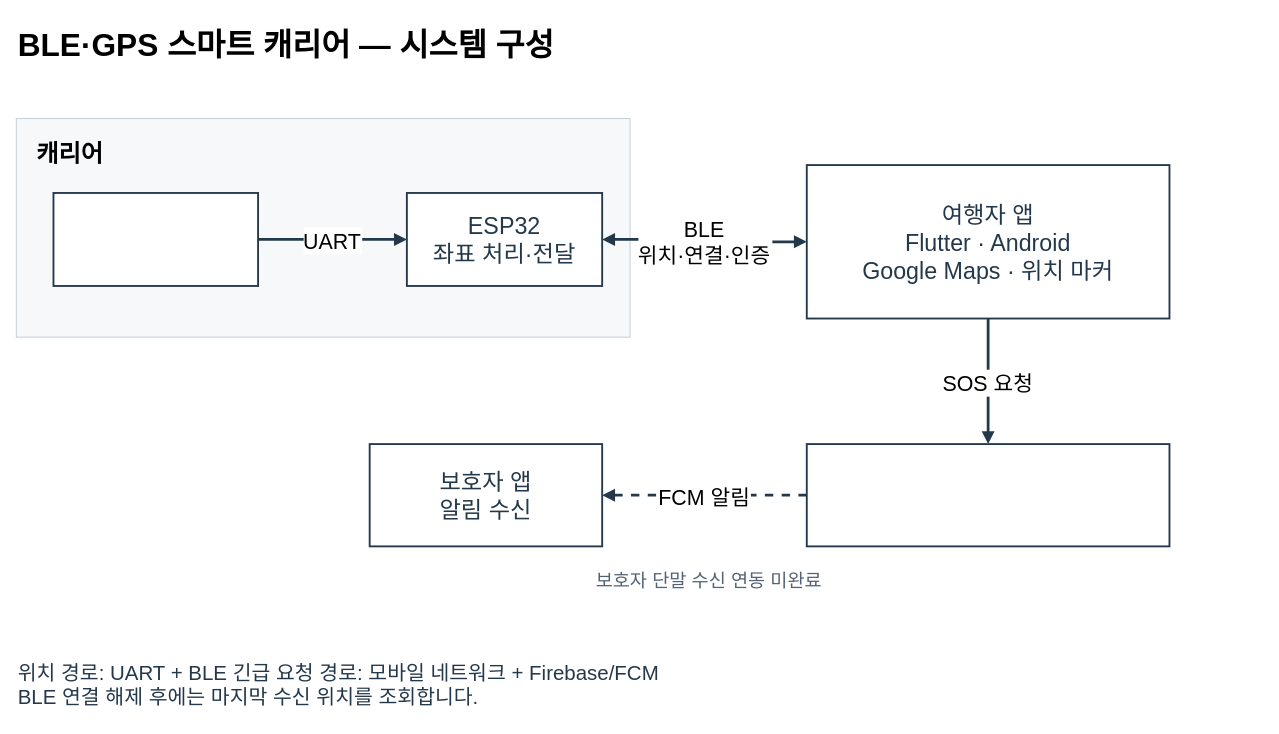
Some shapes in this 1279 by 734 pixel diagram are drawn without their labels. The centre of each missing label's shape, as x and y in pixels:
Firebase · FCM 긴급 알림 전달: the point at 987,495
GPS 모듈 위도·경도 수신: the point at 155,239
